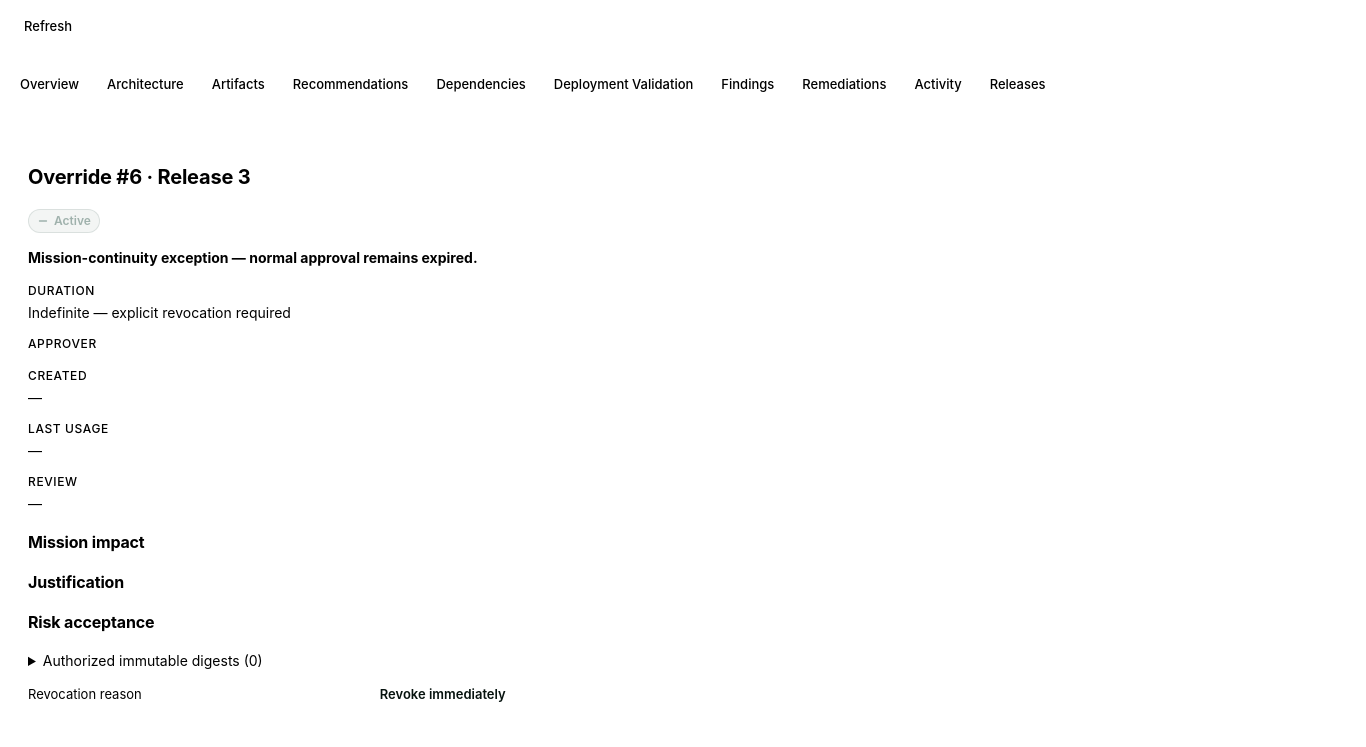
it: revokes an active override with a required reason and refreshes its history
This screenshot has width=1366, height=747.
(page scrolled)
Type "Mission restored on the approved release" into the field labelled "Revocation reason" at (253,695), box [142,671,364,719]
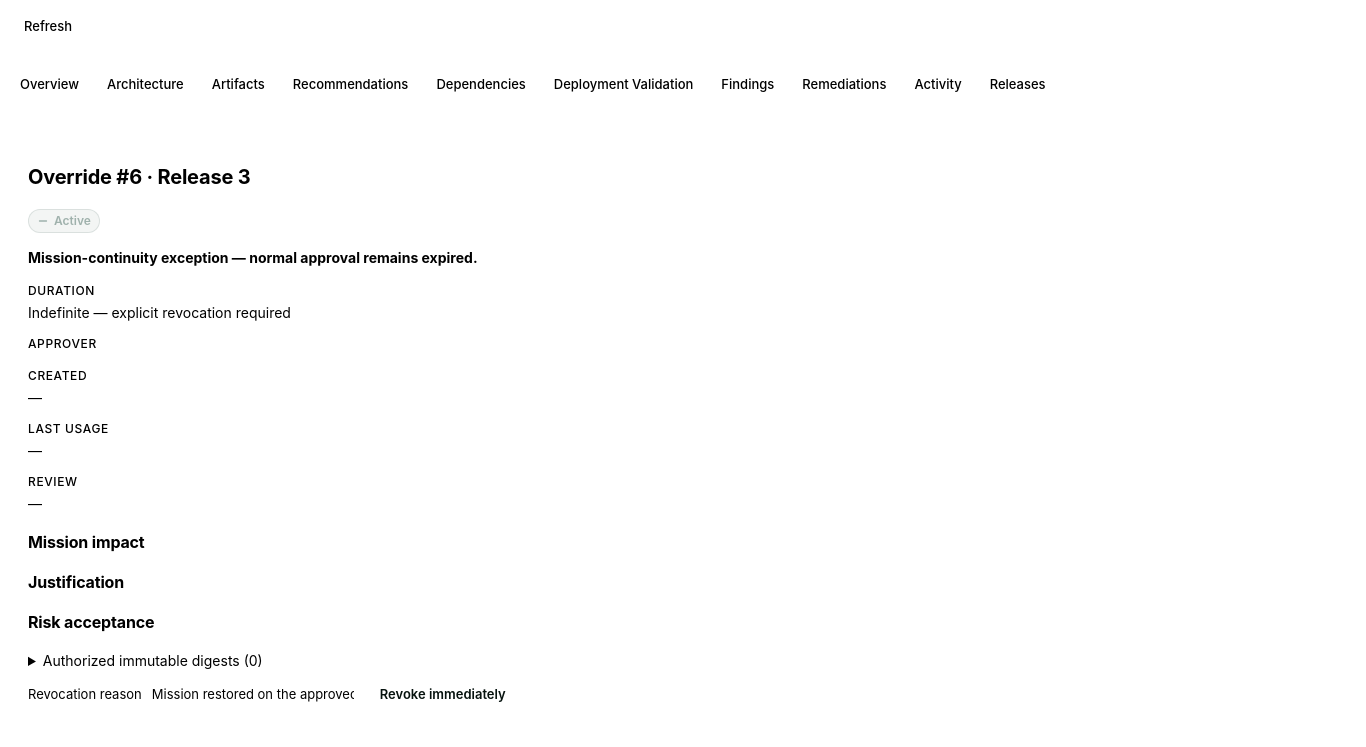
Click the button "Revoke immediately" at (443,695), box [364,677,522,713]
(page scrolled)
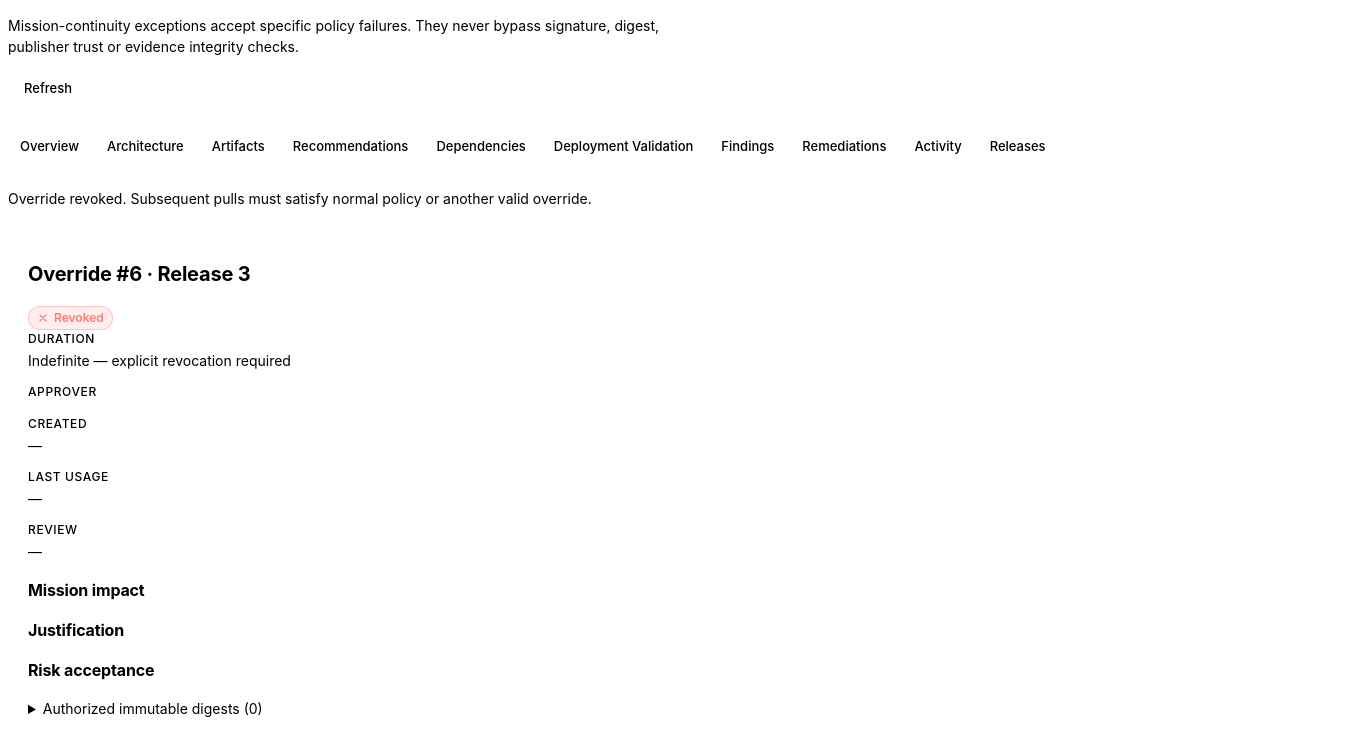
expect the text "Revoked" is shown: met, box [54,312,104,324]
expect the button "Revoke immediately" is gone: met
